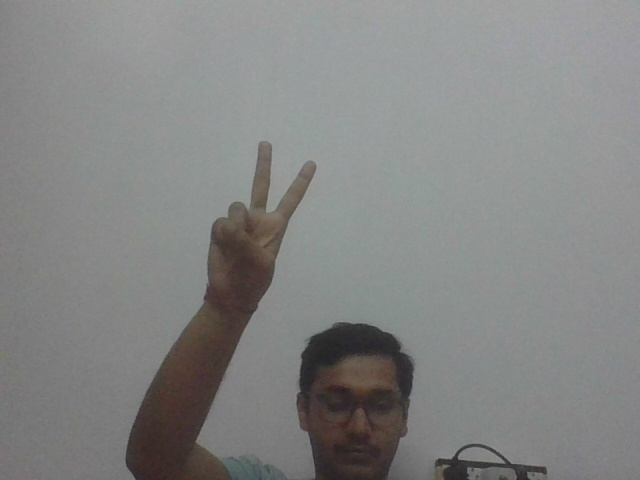V: (199, 140, 325, 309)
